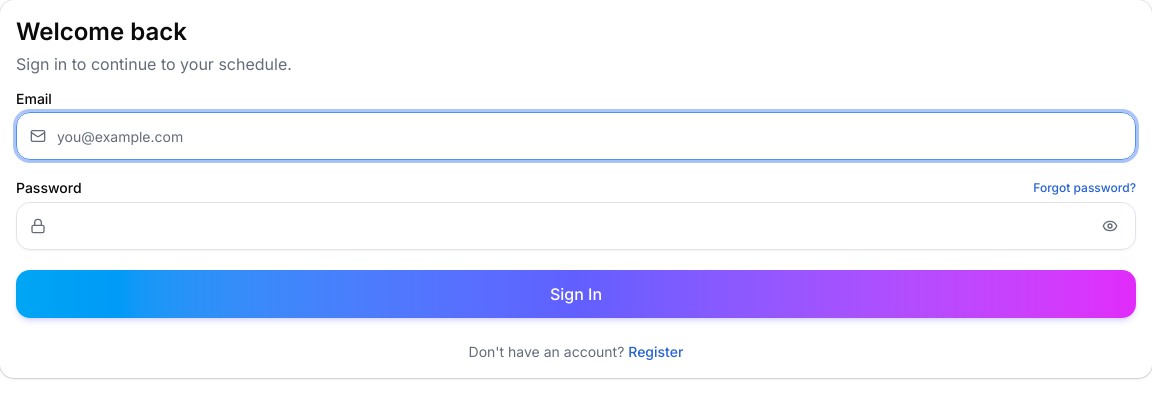
Test: LoginForm › shows an inline email error when no account exists for that email
Step 1. Type "nobody@example.com" into the field labelled "Email" → (576, 136), box [16, 112, 1136, 160]
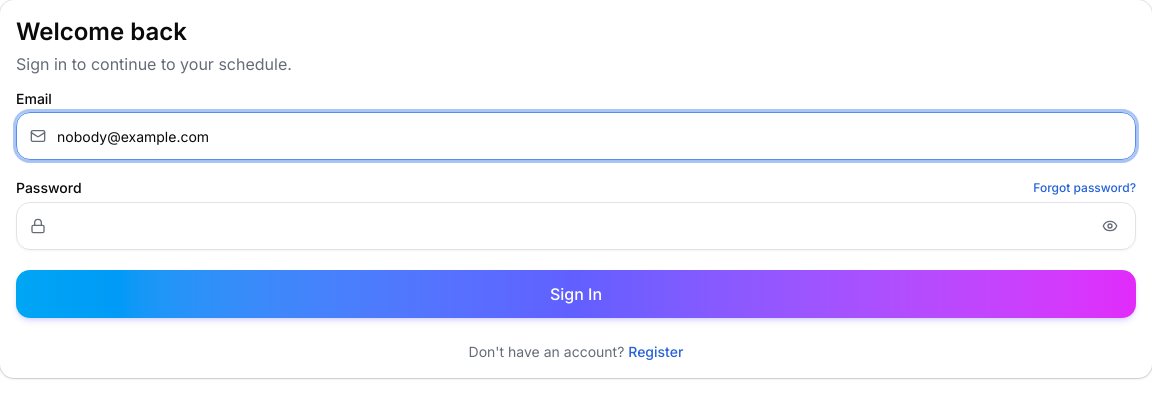
Step 2. Type "some-password" into the password field labelled "Password" → (576, 226), box [16, 202, 1136, 250]
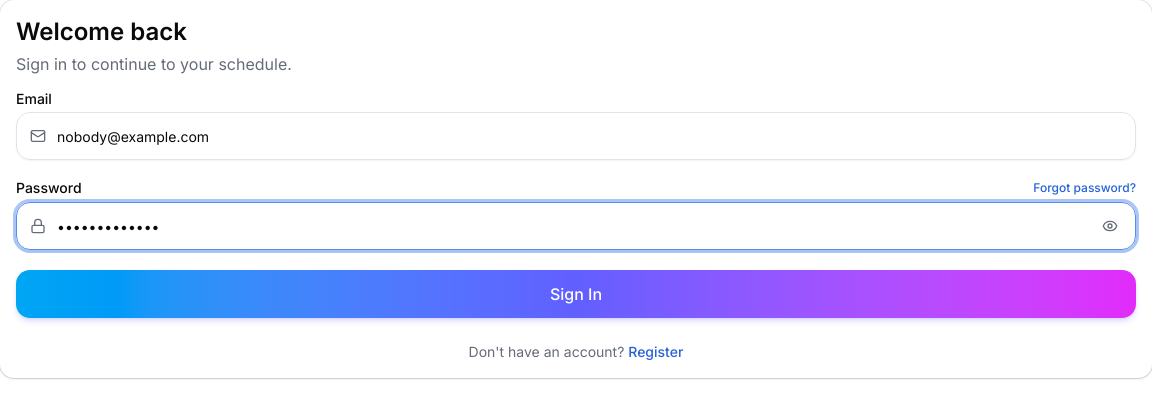
Step 3. Click the button "Sign In" → (576, 294), box [16, 270, 1136, 318]
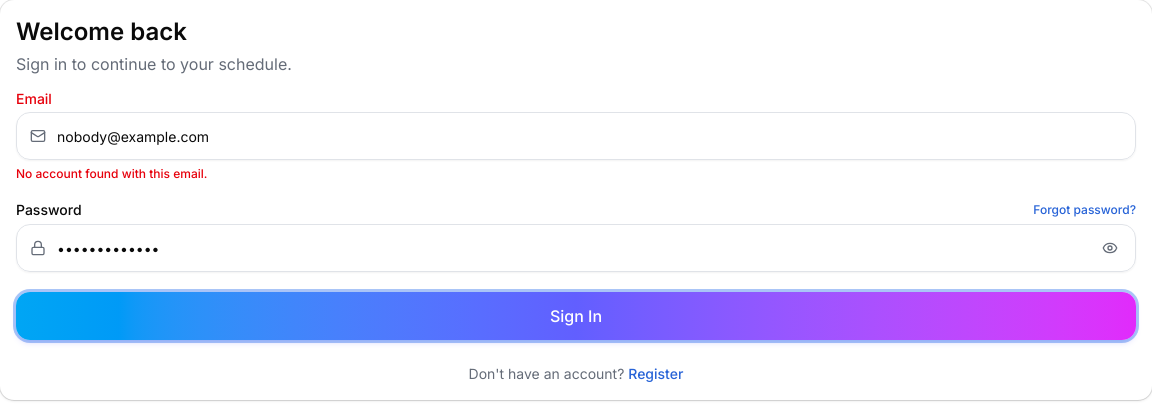
Check: the text "No account found with this email." is shown, box [16, 166, 207, 181]
